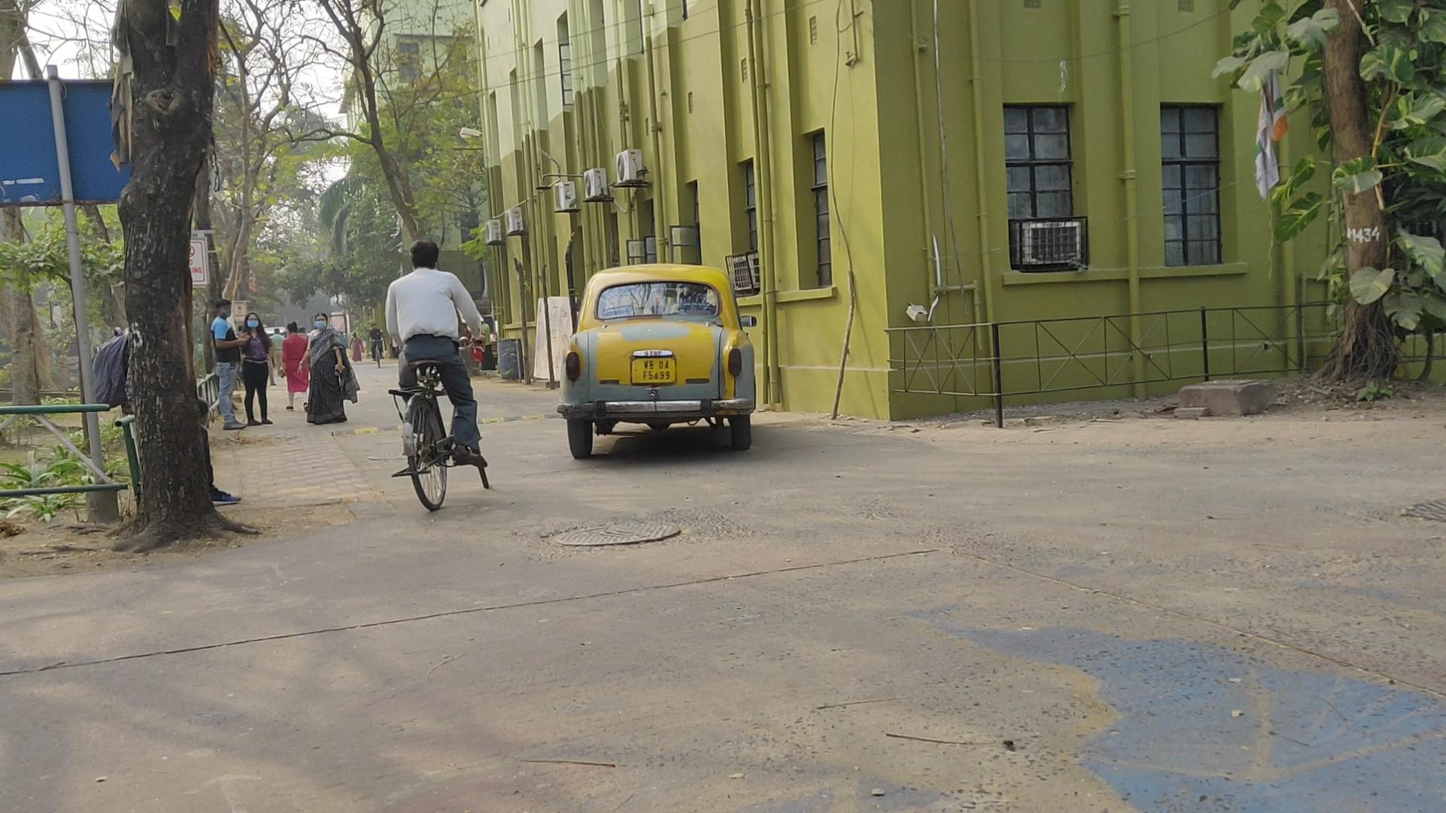bike: (383, 239, 492, 512), (368, 321, 385, 369)
car: (555, 259, 762, 461)
